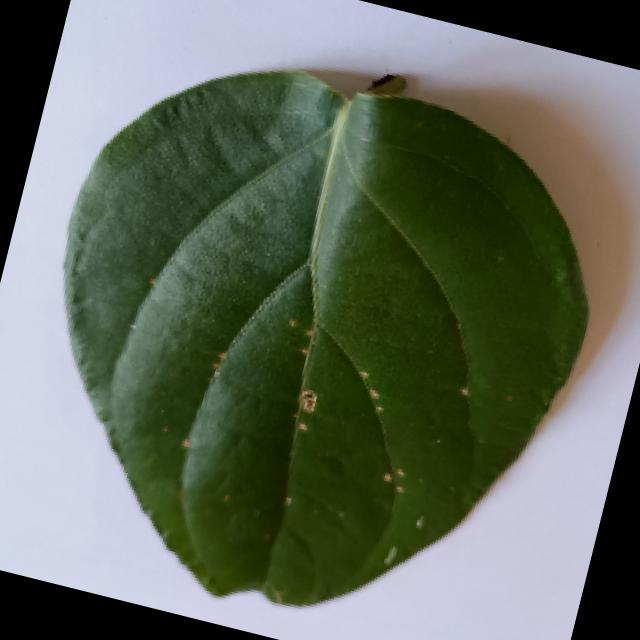pollu-disease: (0, 19, 634, 640)
